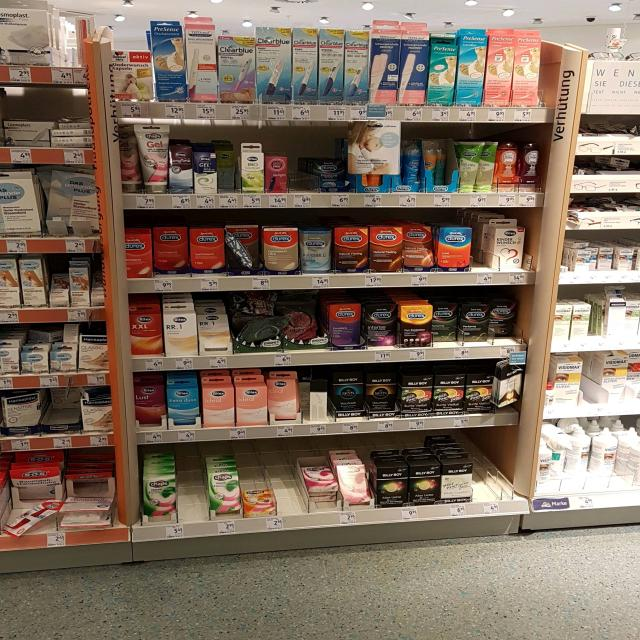void: (478, 429, 516, 515), (178, 460, 205, 538), (292, 139, 315, 209)
